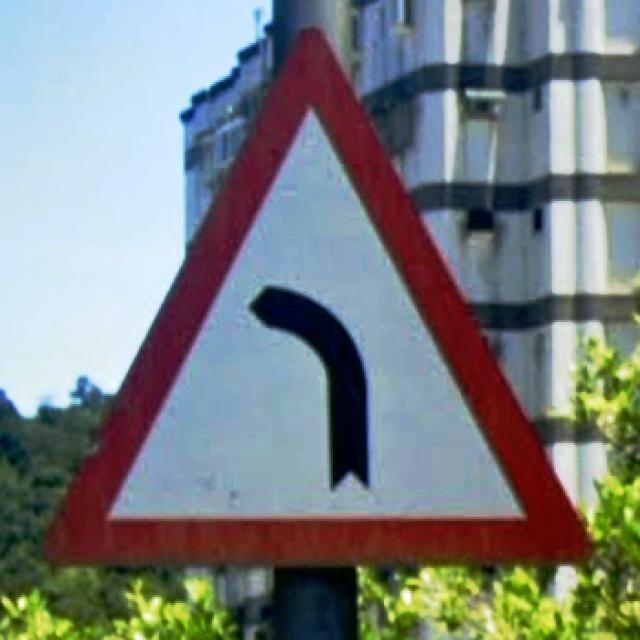leftbend: (44, 27, 596, 570)
